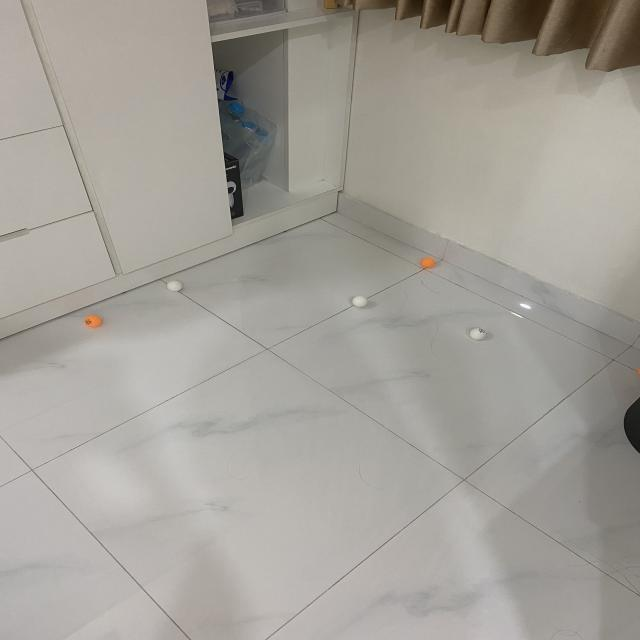ping-pong-ball: (84, 313, 104, 329), (352, 294, 369, 309), (468, 326, 488, 338), (419, 255, 433, 270), (168, 280, 183, 292), (635, 367, 640, 375)
